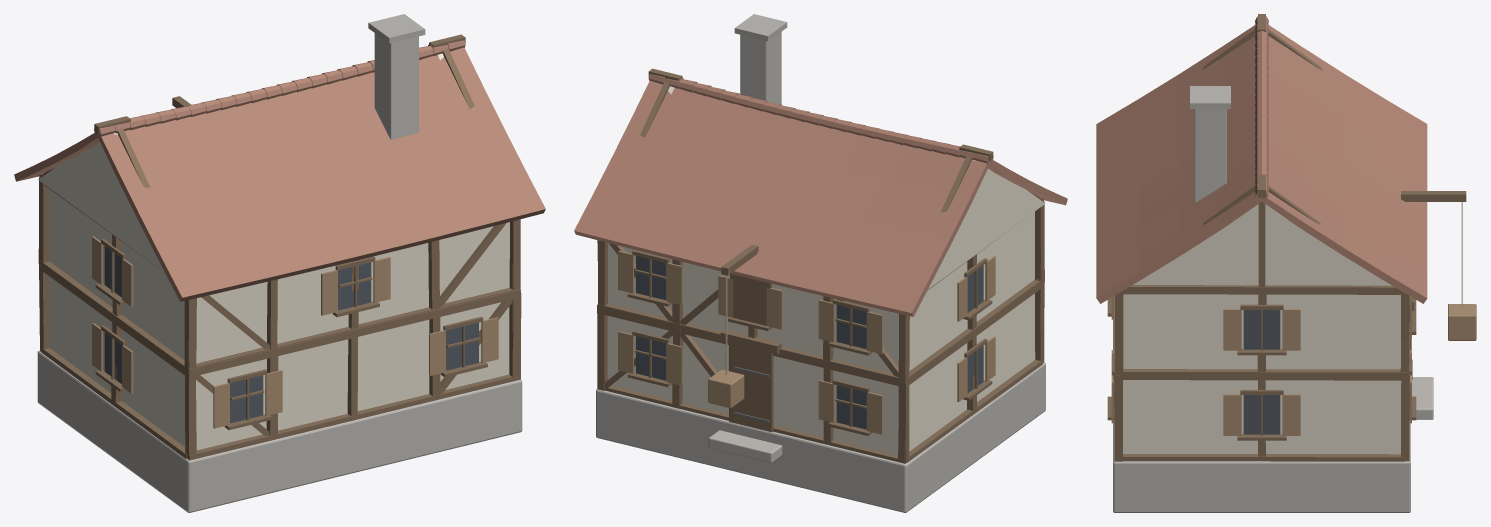
Rendered from kontor.glb.
3 renders of one model, left to right at view 1: azimuth 30°, elevation 25°; view 2: azimuth 150°, elevation 25°; view 3: azimuth 270°, elevation 25°, orthographic. The views are drawn at different scales.
Visible parts, largest first — view 1: kontor; view 2: kontor; view 3: kontor.
Part boxes in pixels (box(x1,y1,x2,y2)): kontor: box(14, 14, 545, 512); kontor: box(574, 14, 1067, 512); kontor: box(1096, 14, 1476, 512).
Bounding box in the file's own units: 10.2 × 10.32 × 9.3.
